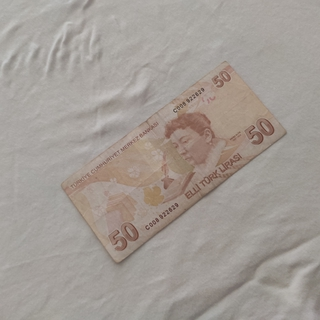50TLBack: (60, 60, 287, 262)
